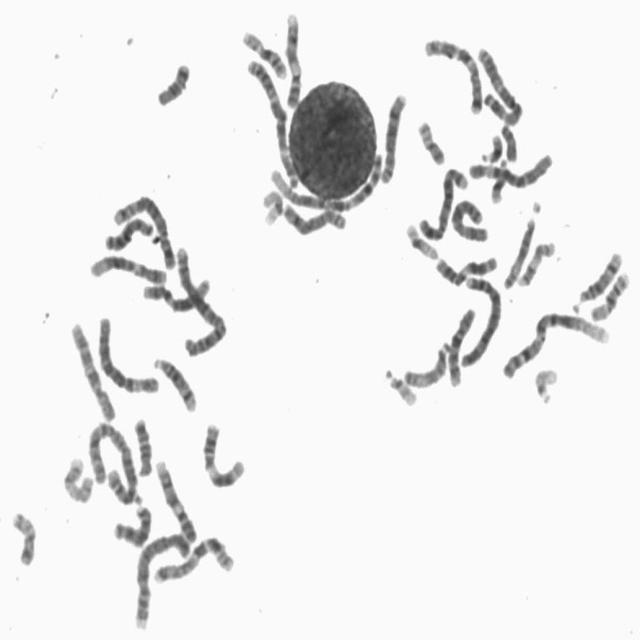A1: (496, 304, 614, 381), (266, 148, 387, 214)
A2: (170, 239, 230, 359), (84, 415, 143, 507)
A3: (242, 52, 302, 189), (473, 39, 527, 127)
B4: (130, 524, 193, 631), (456, 270, 504, 368)
B5: (108, 189, 178, 271), (415, 158, 472, 242)
C10: (66, 314, 118, 423), (444, 301, 478, 388)
C11: (198, 415, 248, 490), (431, 247, 500, 288)
C12: (85, 246, 170, 286), (139, 271, 212, 313)
C6: (93, 308, 162, 396), (464, 146, 556, 189)
C7: (420, 31, 485, 116), (149, 530, 237, 585)
C8: (376, 85, 409, 185), (279, 197, 349, 236)
C9: (151, 454, 198, 545), (280, 4, 304, 109)
D13: (100, 211, 158, 253), (109, 498, 154, 550)
D14: (149, 351, 199, 414), (574, 244, 625, 305)
D15: (499, 210, 538, 290), (399, 334, 452, 390)
E16: (238, 24, 289, 80), (587, 265, 633, 323)
E17: (514, 234, 558, 289), (59, 450, 95, 505)
E18: (152, 54, 194, 108), (130, 411, 154, 478)
F19: (401, 216, 440, 261), (258, 183, 285, 228)
F20: (7, 505, 38, 567), (413, 113, 447, 166)
G21: (490, 156, 511, 206), (477, 128, 504, 164)
G22: (382, 363, 418, 408), (530, 361, 560, 406)
X: (447, 192, 490, 244)
Y: (497, 118, 520, 162)
